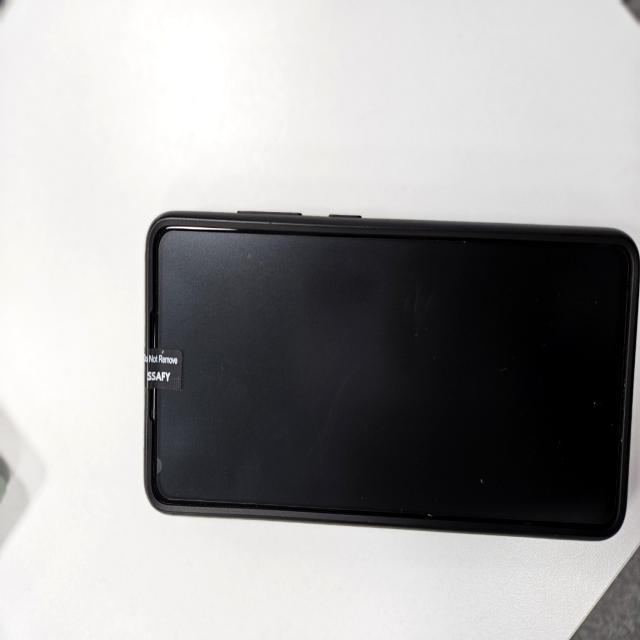phone: (145, 210, 640, 547)
sticker: (143, 349, 186, 394)
